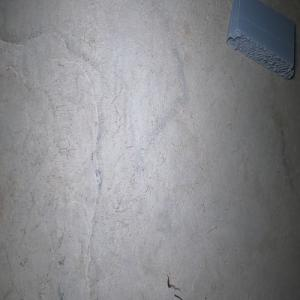PlasticPart: (225, 0, 295, 80)
